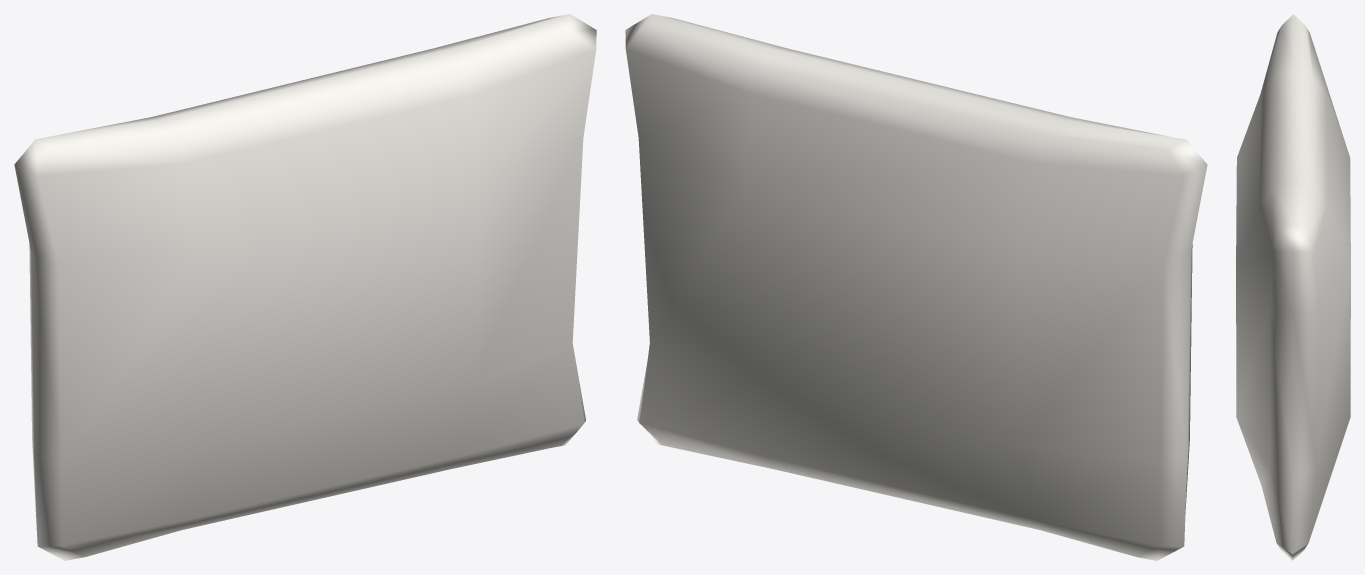
Rendered from SM_Pillow_Large_1_05.fbx.
The picture shows the model from 3 angles, left to right: view 1: azimuth 30°, elevation 25°; view 2: azimuth 150°, elevation 25°; view 3: azimuth 270°, elevation 25°; orthographic projection. The views are drawn at different scales.
Visible parts, largest first — view 1: SM_Pillow_Large_1_05; view 2: SM_Pillow_Large_1_05; view 3: SM_Pillow_Large_1_05.
Part boxes in pixels (x1,y1,x2,y2): SM_Pillow_Large_1_05: (14,14,596,560); SM_Pillow_Large_1_05: (625,14,1207,560); SM_Pillow_Large_1_05: (1236,14,1350,560).
Size of the model in its own units: 71.38 by 50.95 by 15.47.
